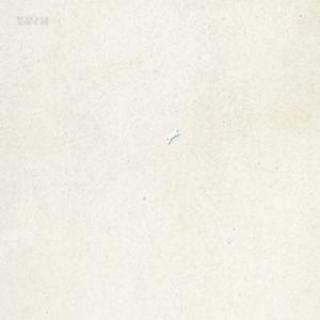Wrenchtrack_idkeyframe: (164, 129, 178, 144)
